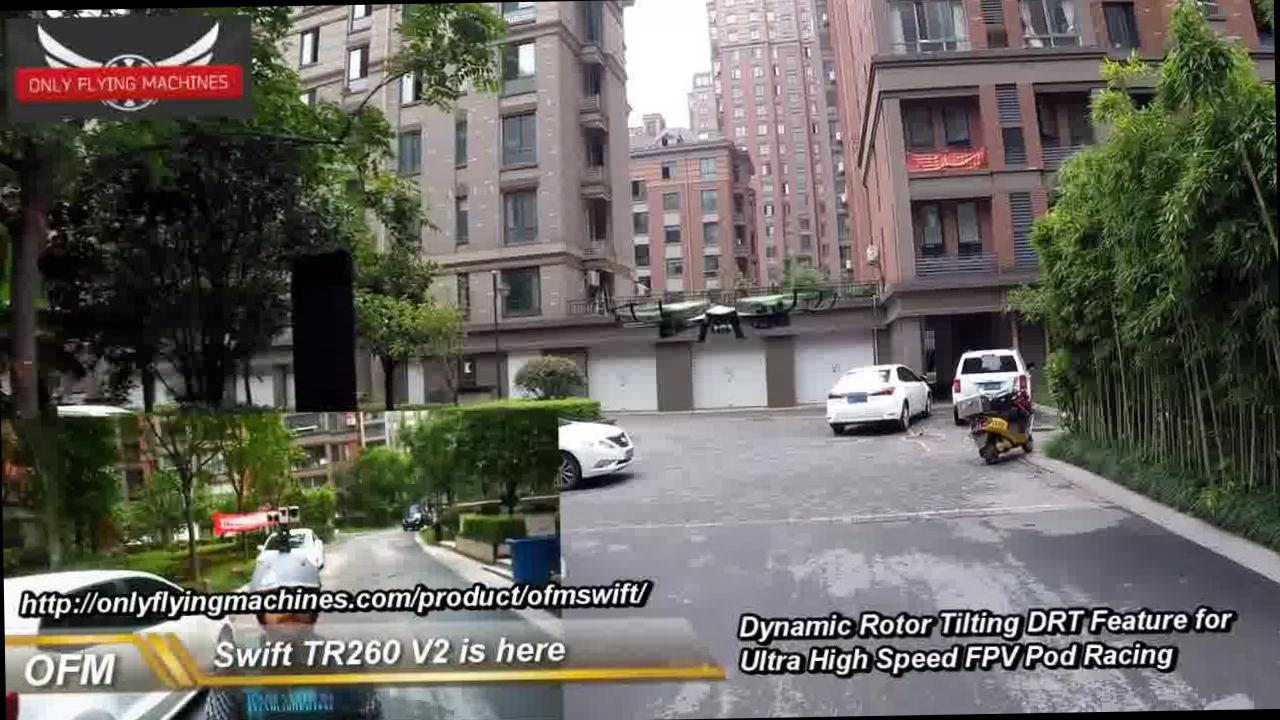drone: (610, 268, 834, 352)
